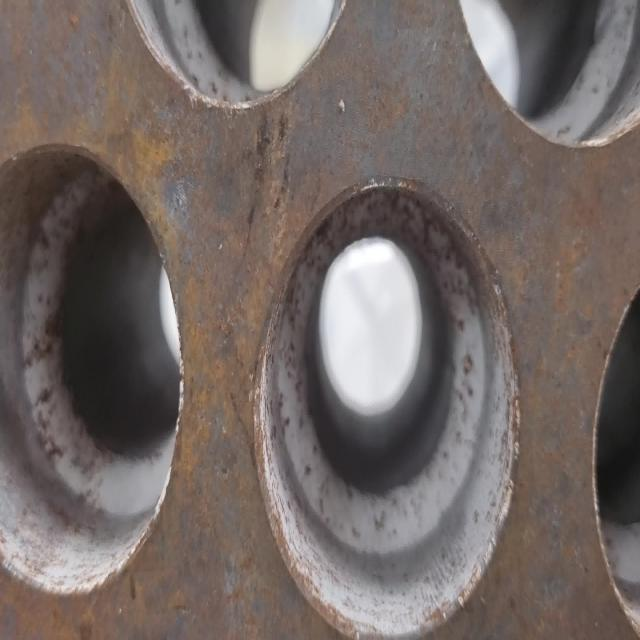Hole: (254, 175, 520, 638), (1, 140, 184, 602), (453, 0, 639, 150), (116, 1, 360, 113)
